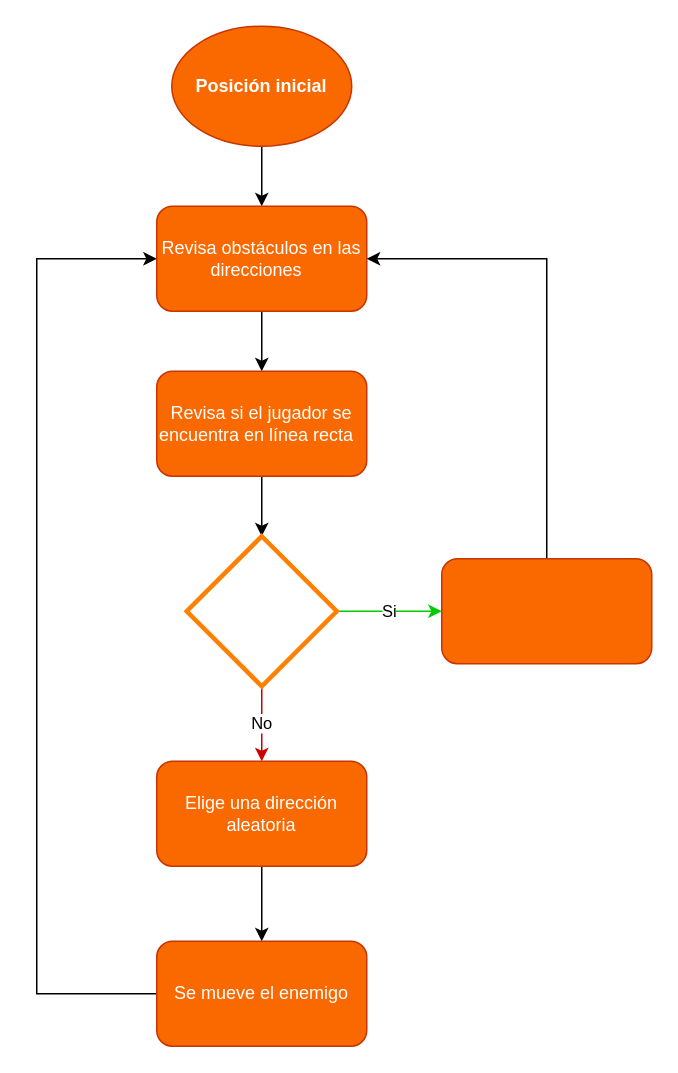
This 678x1073 diagram has some shape labels left out. Each missing label, with the centre of its shape:
Se encuentra: point 261,610
Se mueve hacia el jugador: point 546,610
